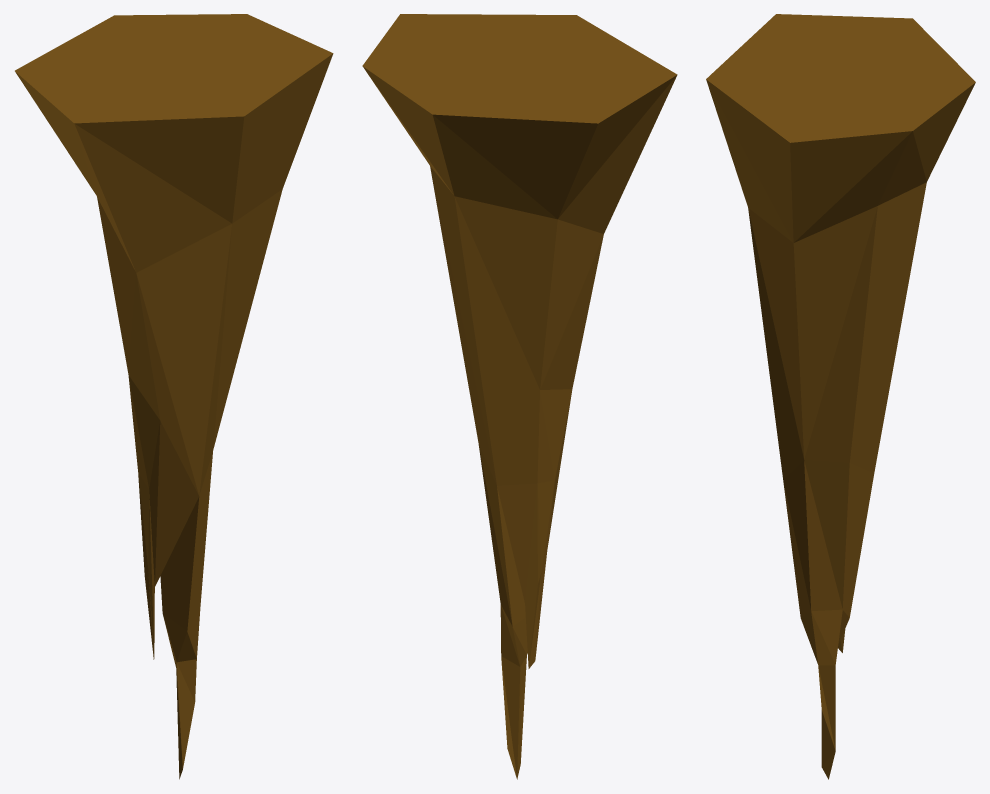
The model's file is obj_stalactite_7_0.obj.
3 views of the same model, side by side, from view 1: azimuth 30°, elevation 25°; view 2: azimuth 150°, elevation 25°; view 3: azimuth 270°, elevation 25° (orthographic). The views are drawn at different scales.
Bounding box in the file's own units: 0.6797 × 1.73 × 0.6016.
